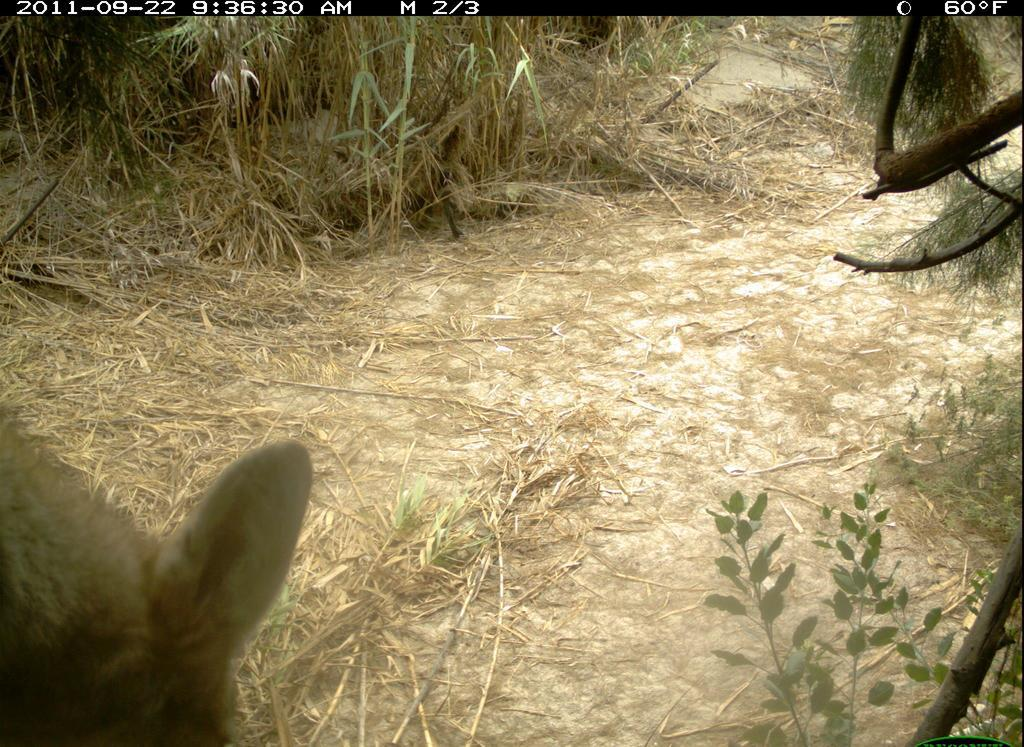coyote: (11, 387, 321, 742)
